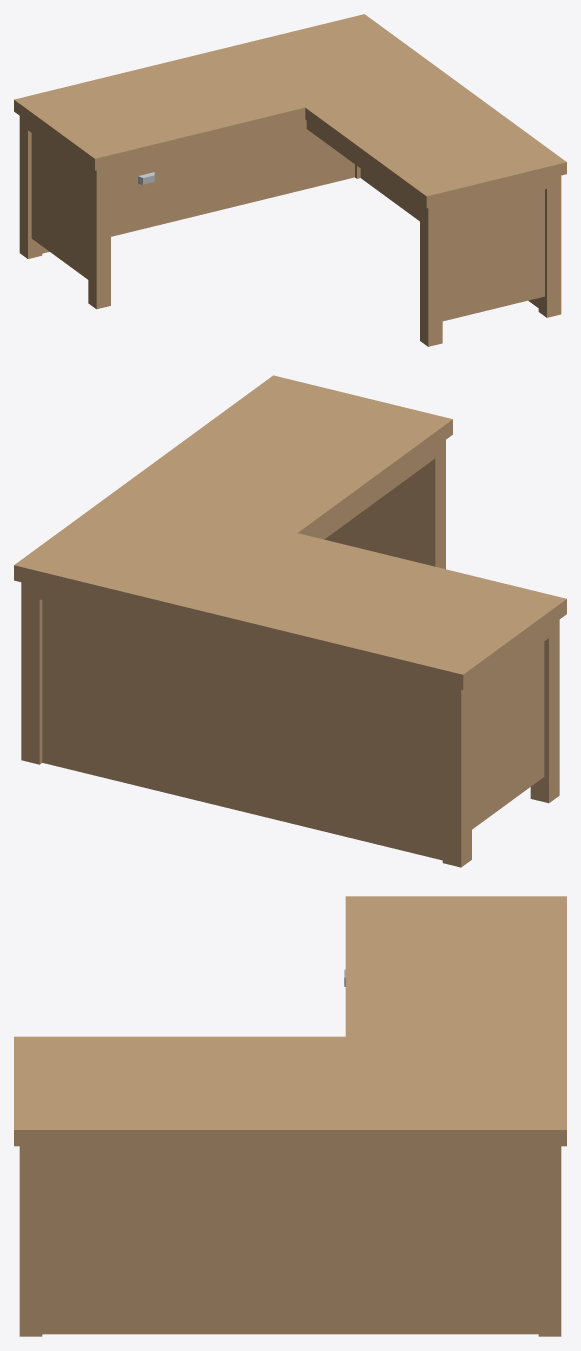
File: desk-corner.glb
The picture shows the model from 3 angles, top to bottom: view 1: azimuth 30°, elevation 25°; view 2: azimuth 150°, elevation 25°; view 3: azimuth 270°, elevation 25°; orthographic projection. The views are drawn at different scales.
Parts seen in each view (by area): view 1: desk-corner; view 2: desk-corner; view 3: desk-corner.
Boxes of the visible parts, x1,y1,x2,y2 form: desk-corner: [14, 14, 566, 346]; desk-corner: [14, 375, 566, 867]; desk-corner: [14, 896, 566, 1336].
Size of the model in its own units: 1.8 by 0.75 by 1.8.
